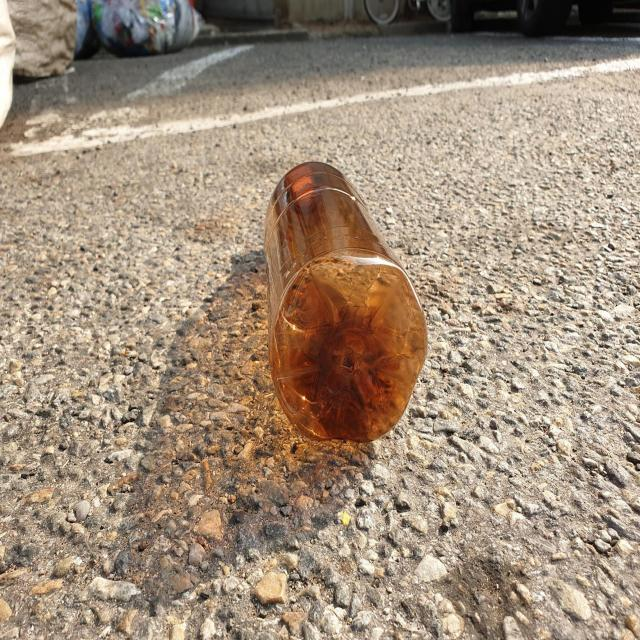plastic: (265, 161, 428, 442)
